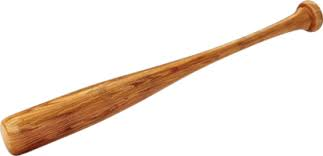baseball bat: (1, 1, 322, 156)
